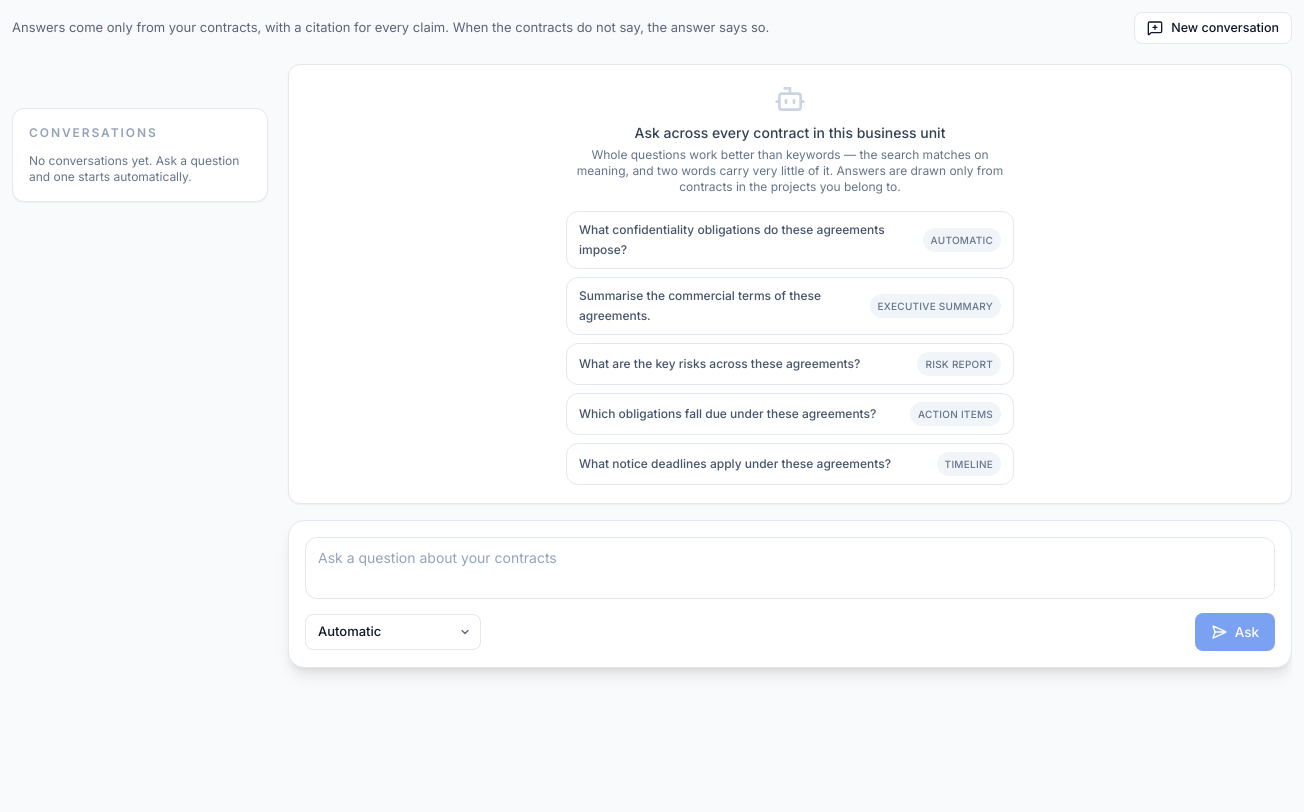
Test: CopilotPage › says so when the search was widened past the detected document type
The image size is (1304, 812).
In the text box named "your question": (790, 568) [305,537,1275,599], type "What is the notice period in the MSA?"
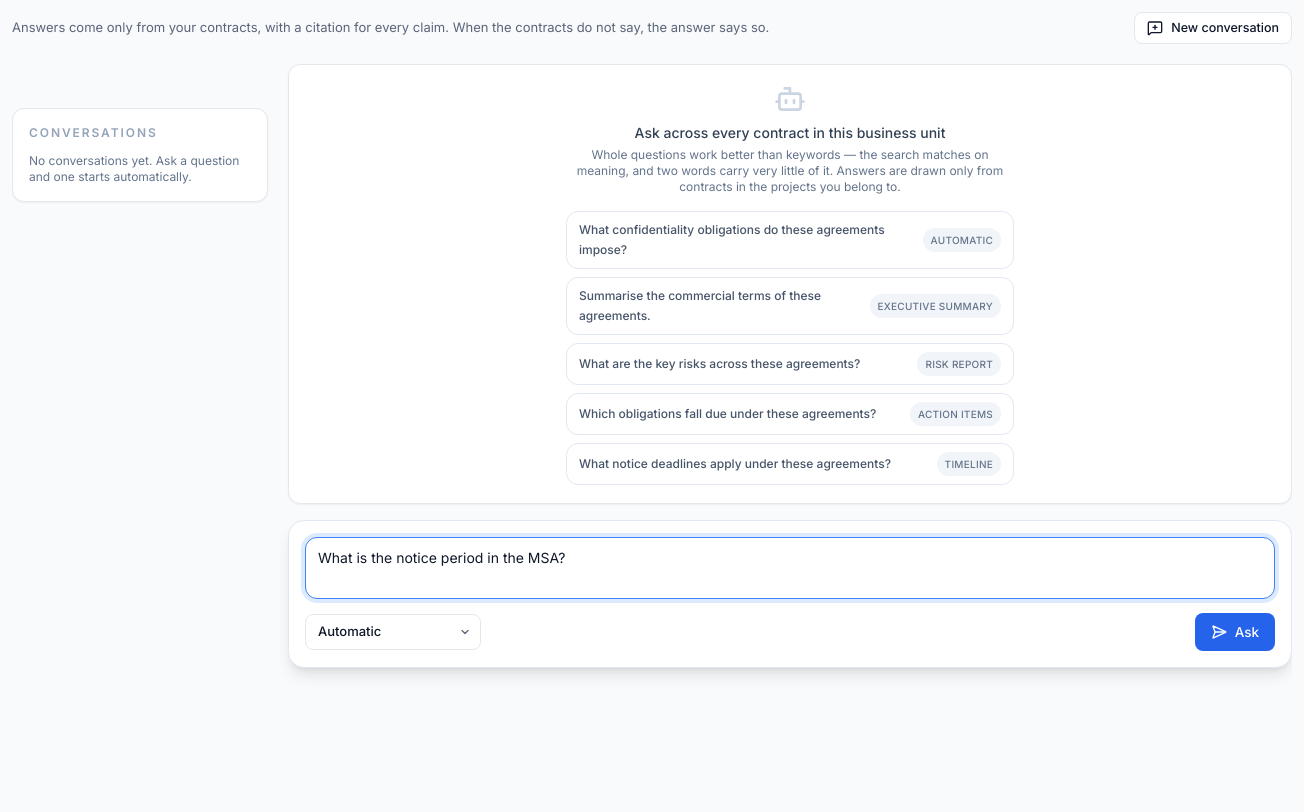
Click the button "Ask": (1235, 632) [1195,613,1275,651]
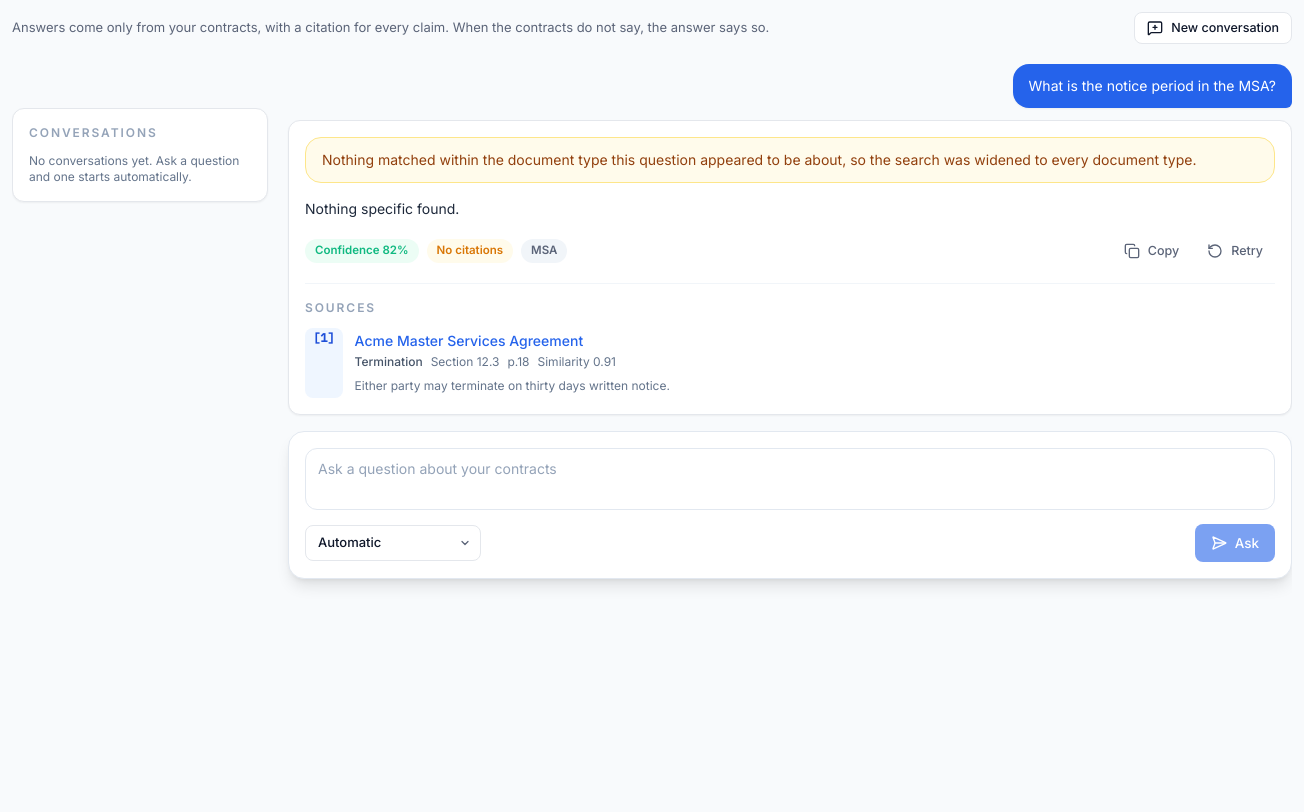
Expected: the text "widened" is shown, [322,151,1196,168]
